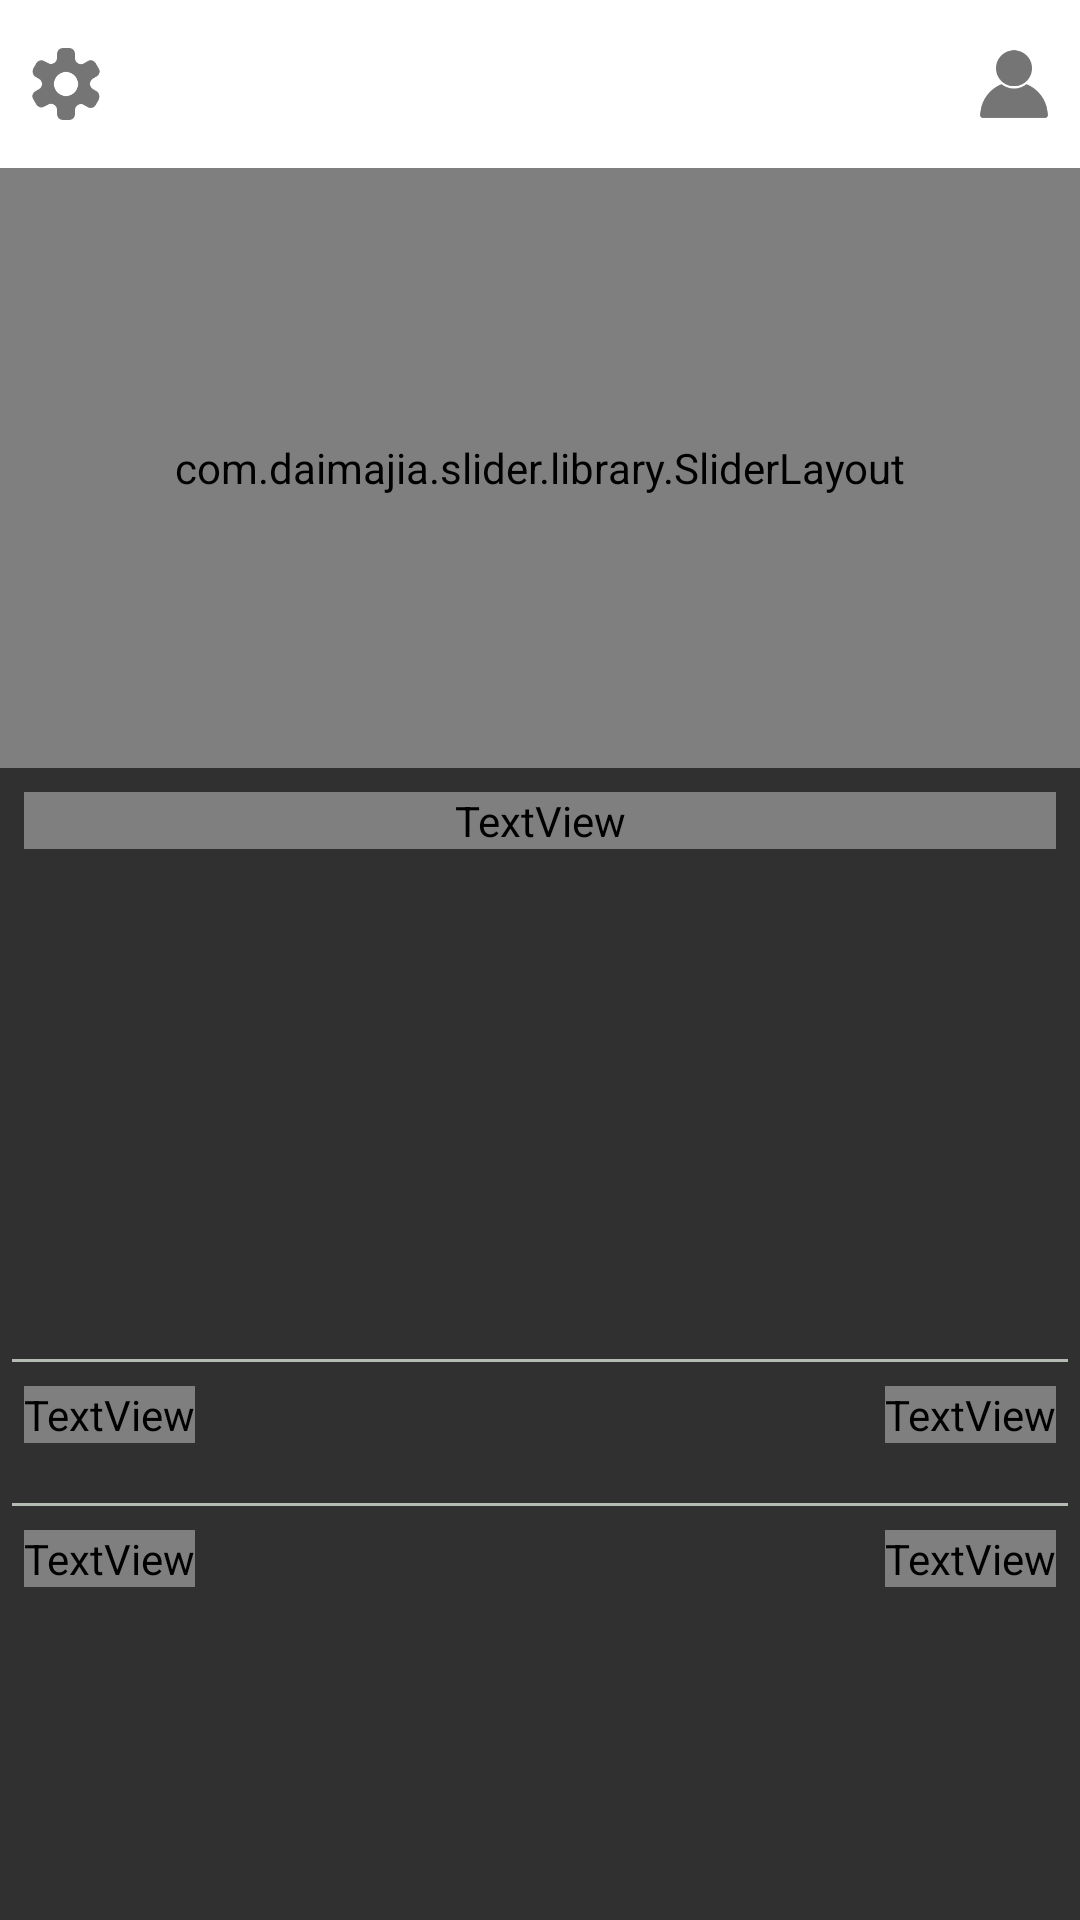

Icons on this 1080w x 1920h Android screen, each with the point to tap as [x,y]:
profile: [1014,84]
setting: [66,84]
